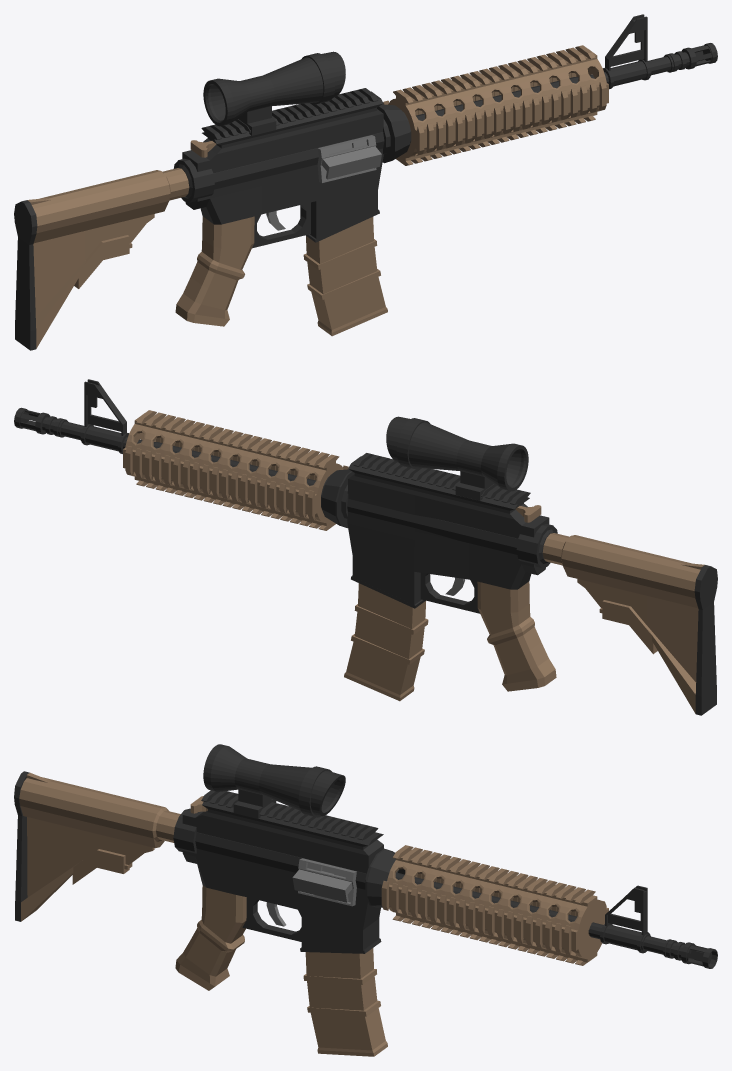
Rendered from M4_Fix_Attempt.fbx.
The picture shows the model from 3 angles, top to bottom: view 1: azimuth 30°, elevation 25°; view 2: azimuth 150°, elevation 25°; view 3: azimuth 330°, elevation 25°; orthographic projection.
Parts seen in each view (by area): view 1: Gun, Magazine, ACOG, Ironsights; view 2: Gun, Magazine, ACOG, Ironsights; view 3: Gun, Magazine, ACOG, Ironsights.
Part boxes in pixels (x1,y1,x2,y2): Gun: (14, 43, 717, 350); Magazine: (303, 217, 387, 336); ACOG: (203, 51, 345, 135); Ironsights: (603, 14, 650, 89); Gun: (14, 407, 717, 715); Magazine: (344, 583, 428, 701); ACOG: (386, 416, 528, 500); Ironsights: (81, 379, 129, 453); Gun: (14, 771, 717, 990); Magazine: (303, 948, 387, 1056); ACOG: (203, 744, 345, 818); Ironsights: (600, 885, 650, 953).
Bounding box in the file's own units: 420 × 161 × 39.69.
